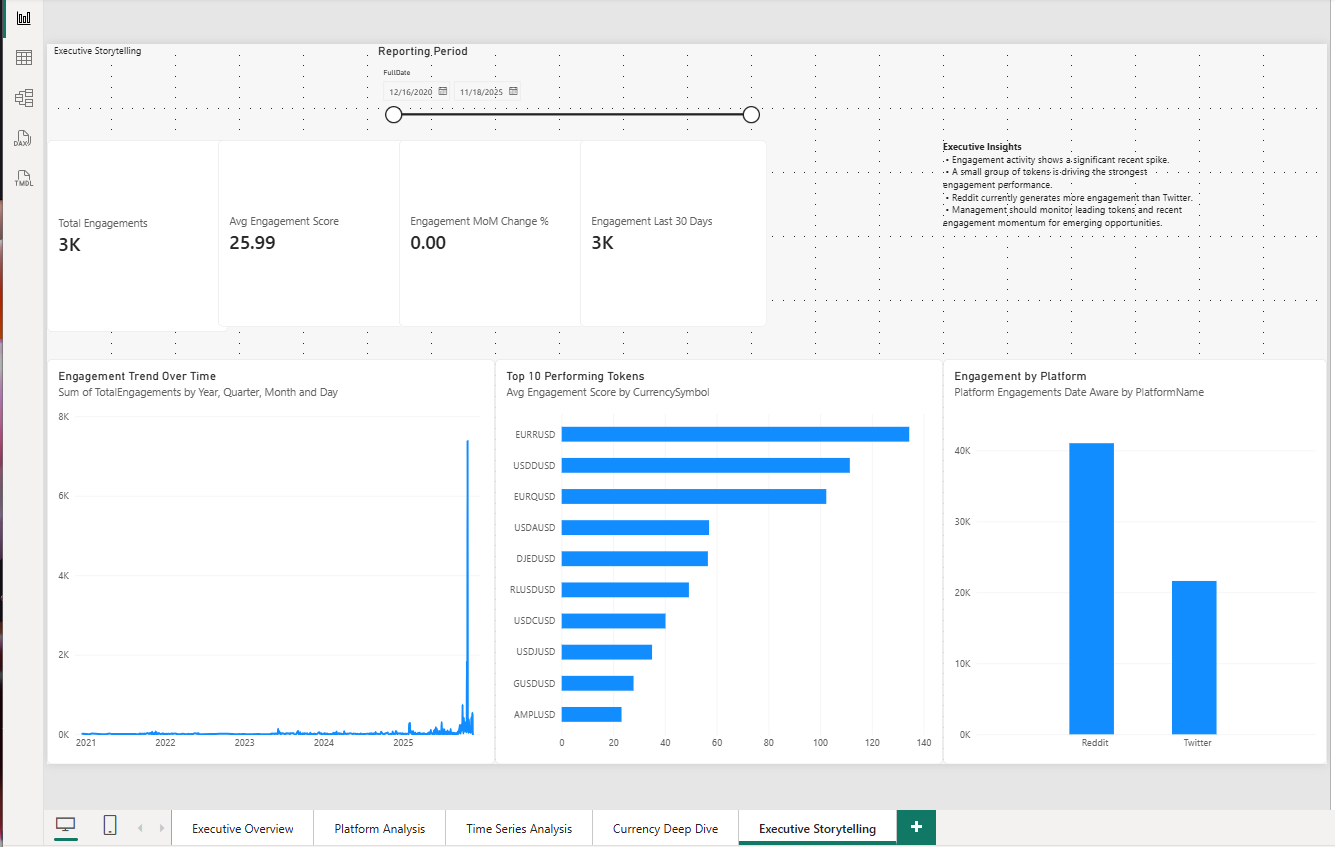

The dashboard page shown, as its layout file describes it:
{"tool":"powerbi","page":{"name":"Executive Storytelling","canvas":[1920,1080],"ordinal":4},"visuals":[{"type":"textbox","box":[10,0,280,280],"z":0},{"type":"textbox","box":[10,290,280,280],"z":1000},{"type":"textbox","box":[10,580,280,280],"z":2000},{"type":"cardVisual","fields":{"Data":["Sum(vw_executivedashboard.TotalEngagements)"]},"box":[0,144,272,288],"z":3000},{"type":"cardVisual","fields":{"Data":["vw_executivedashboard.Avg Engagement Score"]},"box":[256,144,280,280],"z":4000},{"type":"cardVisual","fields":{"Data":["KPI Measures.Engagement MoM Change %"]},"box":[528,144,280,280],"z":5000},{"type":"cardVisual","fields":{"Data":["KPI Measures.Engagement Last 30 Days"]},"box":[800,144,280,280],"z":6000},{"type":"lineChart","title":"Engagement Trend Over Time","fields":{"Category":["vw_timeseries.FullDate.Variation.Date Hierarchy.Year","vw_timeseries.FullDate.Variation.Date Hierarchy.Quarter","vw_timeseries.FullDate.Variation.Date Hierarchy.Month","vw_timeseries.FullDate.Variation.Date Hierarchy.Day"],"Y":["Sum(vw_timeseries.TotalEngagements)"]},"box":[0,472,672,608],"z":7000},{"type":"barChart","title":"Top 10 Performing Tokens","fields":{"Category":["vw_executivedashboard.CurrencySymbol"],"Y":["vw_executivedashboard.Avg Engagement Score"]},"box":[672,472,672,608],"z":8000},{"type":"clusteredColumnChart","title":"Engagement by Platform","fields":{"Category":["vw_platformdaily.PlatformName"],"Y":["KPI Measures.Platform Engagements Date Aware"]},"box":[1344,472,576,608],"z":9000},{"type":"slicer","title":"Reporting Period","fields":{"Values":["vw_timeseries.FullDate"]},"box":[496,0,576,144],"z":9001},{"type":"textbox","box":[1344,144,384,208],"z":9002}]}

Visuals, with their boxes on the page's 1920x1080 design canvas (x1, y1, x2, y2). These are canvas units, not pixel positions in the 1335x847 screenshot, which may show the page scaled, cropped or inside an application window:
textbox: locate(10, 0, 290, 280)
textbox: locate(10, 290, 290, 570)
textbox: locate(10, 580, 290, 860)
cardVisual - Sum(vw_executivedashboard.TotalEngagements): locate(0, 144, 272, 432)
cardVisual - vw_executivedashboard.Avg Engagement Score: locate(256, 144, 536, 424)
cardVisual - KPI Measures.Engagement MoM Change %: locate(528, 144, 808, 424)
cardVisual - KPI Measures.Engagement Last 30 Days: locate(800, 144, 1080, 424)
"Engagement Trend Over Time" lineChart: locate(0, 472, 672, 1080)
"Top 10 Performing Tokens" barChart: locate(672, 472, 1344, 1080)
"Engagement by Platform" clusteredColumnChart: locate(1344, 472, 1920, 1080)
"Reporting Period" slicer: locate(496, 0, 1072, 144)
textbox: locate(1344, 144, 1728, 352)
